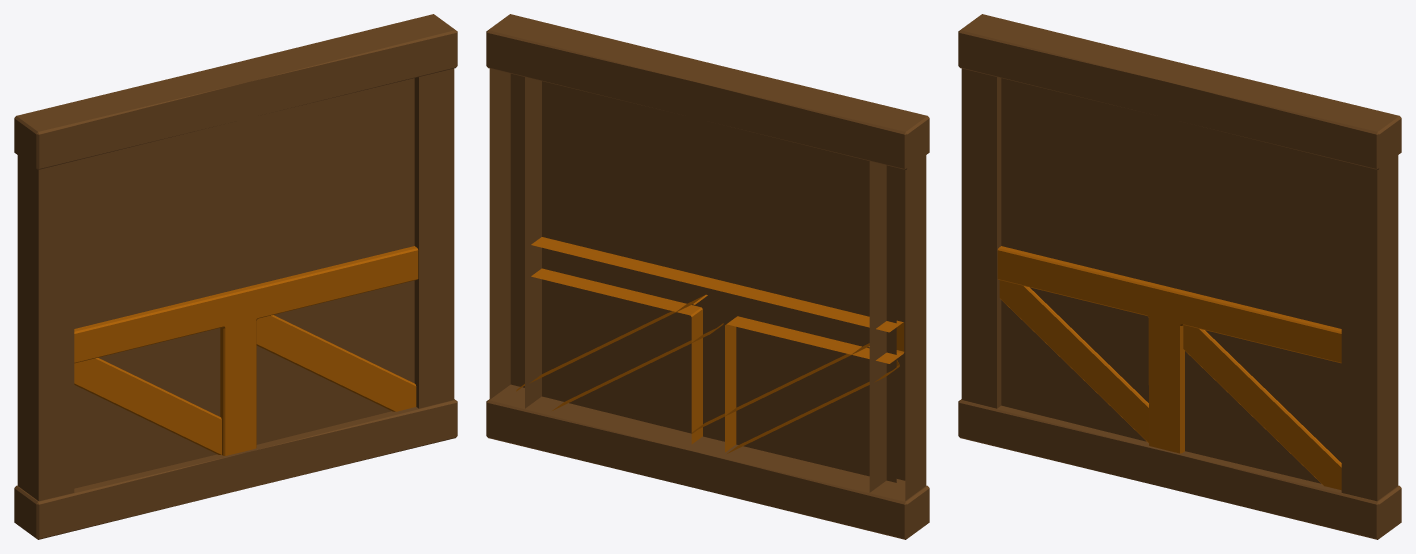
The model's file is ParedDecoracion1.fbx.
3 views of the same model, side by side, from view 1: azimuth 30°, elevation 25°; view 2: azimuth 150°, elevation 25°; view 3: azimuth 330°, elevation 25° (orthographic).
Parts seen in each view (by area): view 1: polySurface2257, polySurface2252; view 2: polySurface2257, polySurface2252; view 3: polySurface2257, polySurface2252.
Boxes of the visible parts, x1,y1,x2,y2 form: polySurface2257: [14, 14, 457, 539]; polySurface2252: [74, 246, 418, 455]; polySurface2257: [486, 14, 929, 539]; polySurface2252: [516, 237, 904, 453]; polySurface2257: [958, 14, 1401, 539]; polySurface2252: [997, 246, 1341, 490].
Bounding box in the file's own units: 1.15 × 1.07 × 0.1151.
